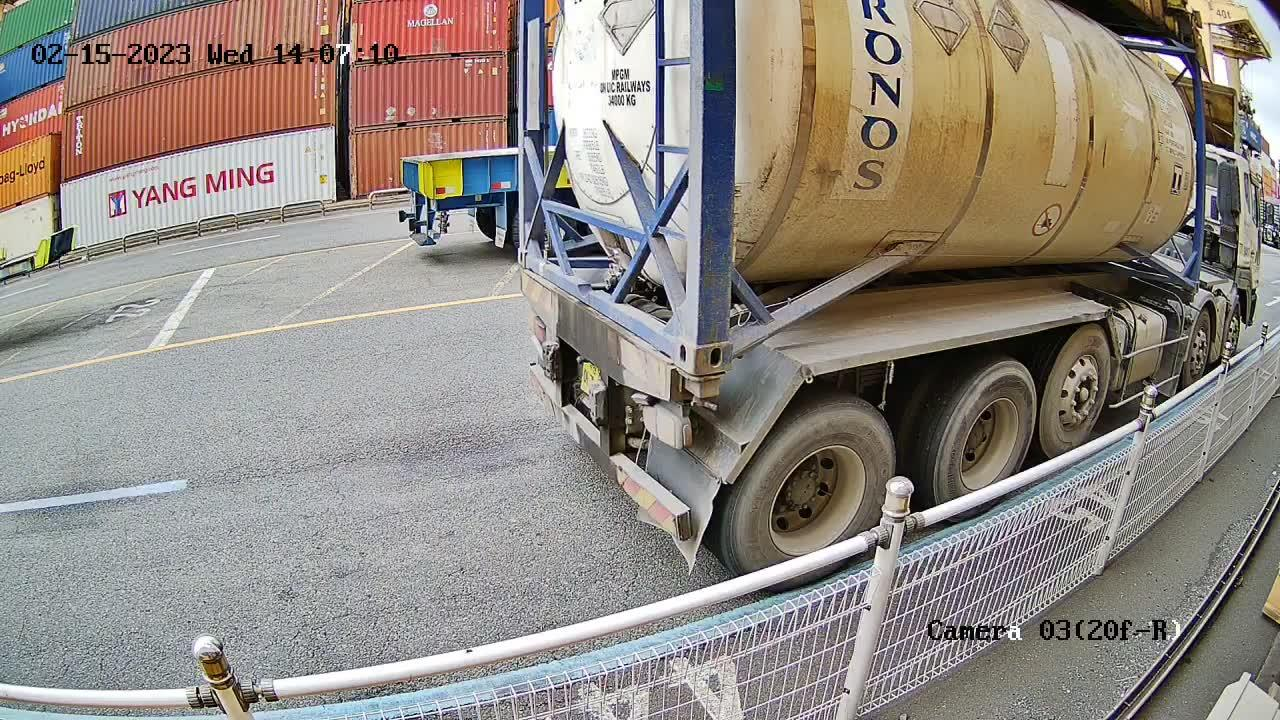Chassis: (518, 270, 679, 399)
Cone: (670, 371, 727, 412)
Hole_L: (695, 306, 765, 375), (516, 216, 557, 287)
Hole_R: (648, 296, 699, 378)
Tire: (730, 399, 896, 569), (931, 362, 1038, 497), (1039, 326, 1116, 457)
